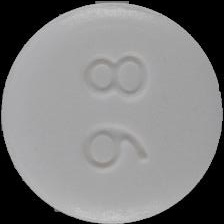60687-202: (0, 0, 224, 224)
